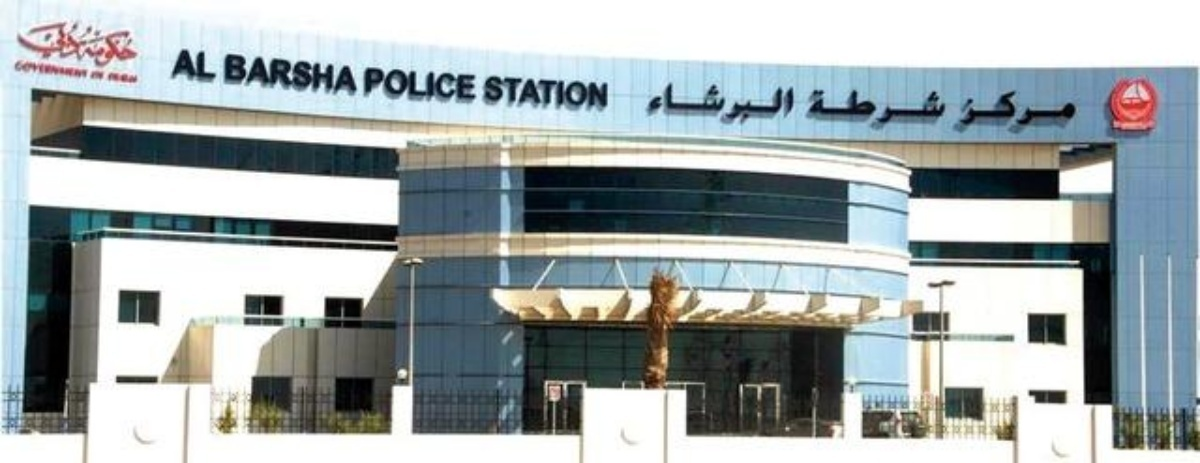text: (81, 21, 96, 70), (97, 21, 112, 70), (113, 21, 128, 70), (129, 21, 143, 70), (657, 77, 672, 122), (673, 77, 688, 122), (689, 77, 704, 122), (705, 77, 720, 122), (721, 77, 736, 122), (737, 77, 752, 122), (753, 77, 768, 122), (769, 77, 784, 122), (225, 51, 240, 94), (241, 51, 256, 94), (257, 51, 272, 94), (273, 51, 288, 94), (289, 51, 304, 94), (305, 51, 320, 94), (321, 51, 336, 94), (337, 51, 352, 94), (817, 87, 832, 128), (833, 87, 848, 128), (849, 87, 864, 128), (865, 87, 880, 128), (881, 87, 896, 128), (897, 87, 912, 128), (913, 87, 928, 128), (929, 87, 944, 128), (961, 90, 976, 130), (977, 90, 992, 130), (993, 90, 1008, 130), (1009, 90, 1024, 130), (1025, 90, 1040, 130), (1041, 90, 1056, 130), (1057, 90, 1072, 130), (17, 21, 32, 60), (33, 21, 48, 60), (49, 21, 64, 60), (65, 21, 79, 60), (369, 66, 384, 102), (385, 66, 400, 102), (401, 66, 416, 102), (417, 66, 432, 102), (433, 66, 448, 102), (449, 66, 464, 102), (785, 77, 797, 122), (803, 87, 816, 128), (465, 66, 479, 102), (497, 75, 512, 107), (513, 75, 528, 107), (529, 75, 544, 107), (545, 75, 560, 107), (561, 75, 576, 107), (577, 75, 592, 107), (593, 75, 608, 107), (193, 49, 208, 81), (646, 77, 656, 122), (17, 55, 32, 85), (33, 55, 48, 85), (49, 55, 64, 85), (65, 55, 80, 85), (482, 75, 496, 107), (181, 49, 192, 81), (353, 51, 361, 94), (945, 87, 953, 128), (81, 55, 91, 85), (209, 49, 218, 81), (113, 70, 128, 89), (1073, 90, 1079, 130), (10, 21, 16, 60), (129, 70, 141, 89), (362, 66, 368, 102), (955, 90, 960, 130), (97, 68, 106, 85), (104, 70, 112, 89), (77, 21, 80, 70), (222, 51, 224, 94), (91, 68, 96, 85), (14, 55, 16, 85), (609, 75, 610, 107)
